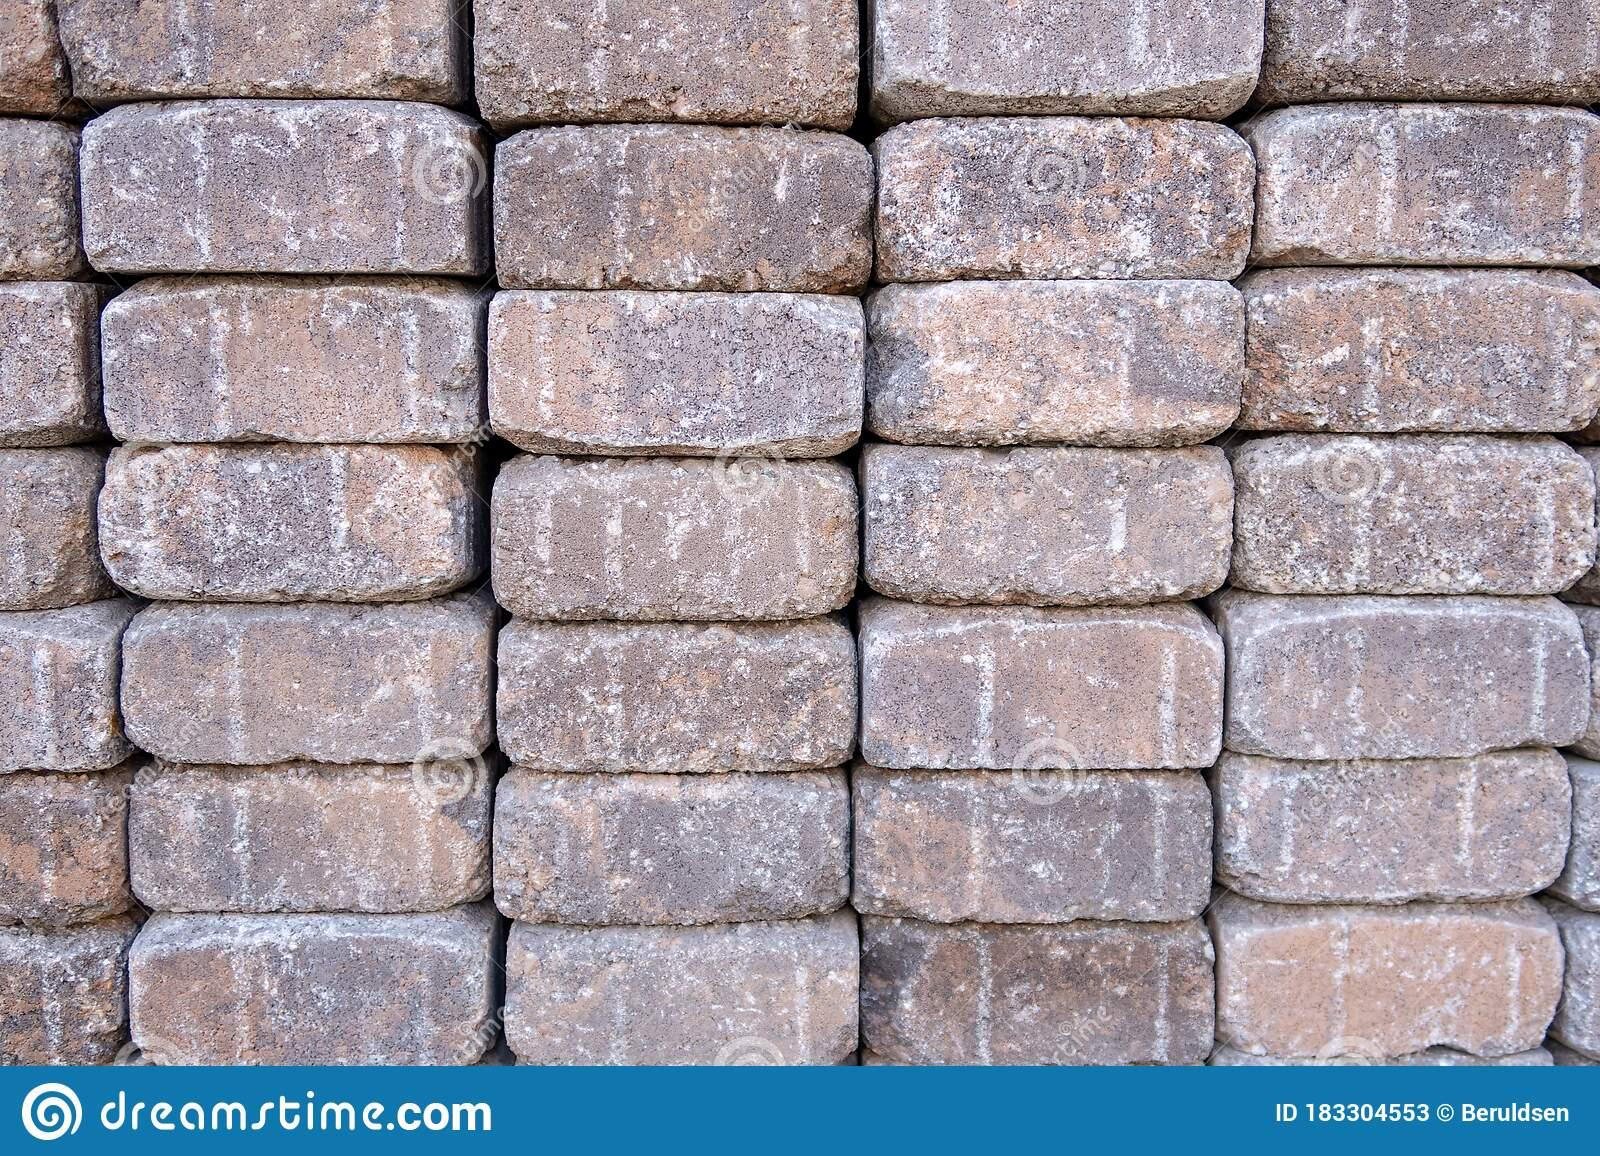brick: (80, 101, 471, 272), (494, 123, 873, 289), (866, 278, 1242, 445), (101, 277, 482, 441), (491, 293, 863, 456), (875, 118, 1256, 277), (1227, 595, 1589, 761), (862, 605, 1225, 769), (492, 458, 857, 620), (866, 446, 1235, 605), (1235, 433, 1596, 595), (97, 446, 470, 600), (1250, 103, 1600, 266), (498, 617, 858, 775), (1243, 272, 1600, 431), (852, 769, 1214, 923), (123, 613, 489, 764), (1217, 749, 1570, 904), (493, 772, 848, 926), (1215, 899, 1564, 1055), (504, 913, 858, 1065), (129, 764, 489, 909), (861, 918, 1215, 1065), (129, 932, 486, 1064), (475, 0, 858, 122), (875, 0, 1263, 115), (55, 0, 451, 97), (1266, 1, 1600, 102)
